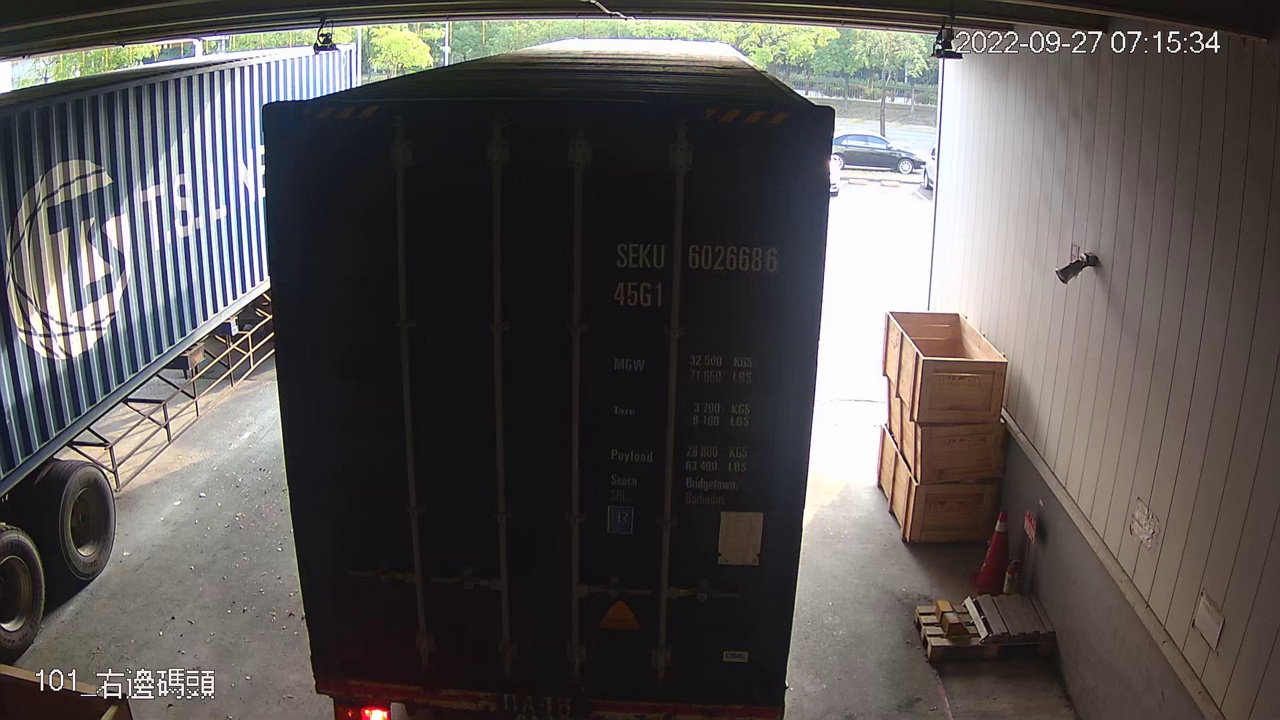container: (603, 235, 786, 315)
